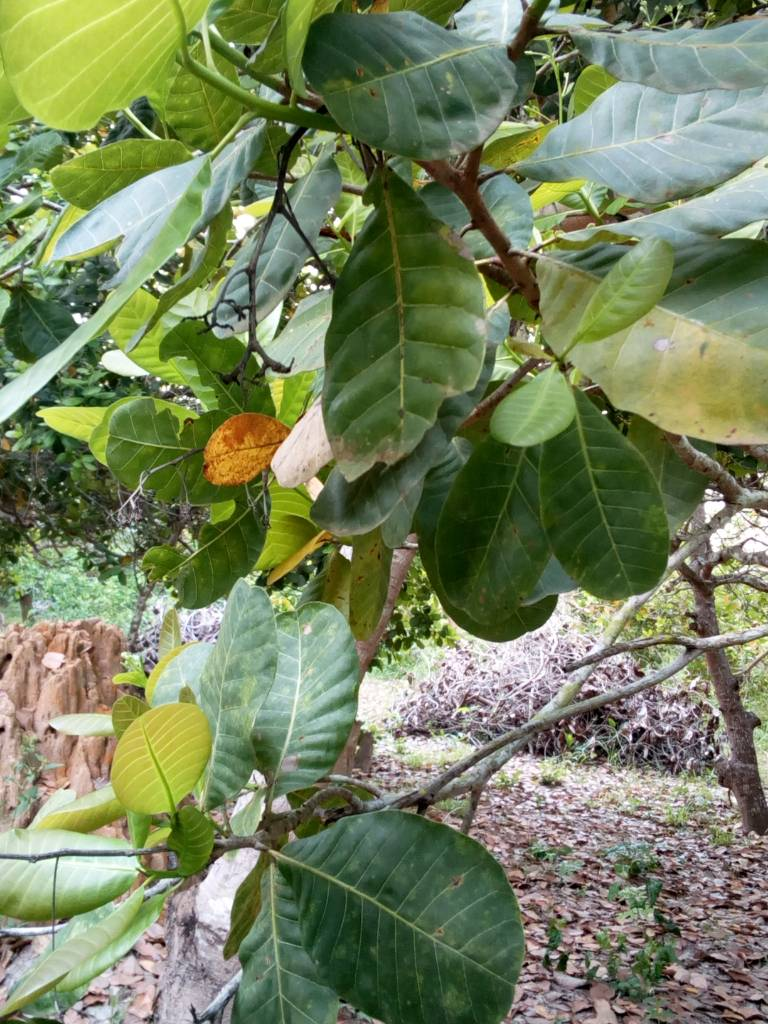Alternariose: (280, 808, 521, 1022), (543, 410, 668, 602), (433, 435, 547, 622), (200, 411, 291, 482)
